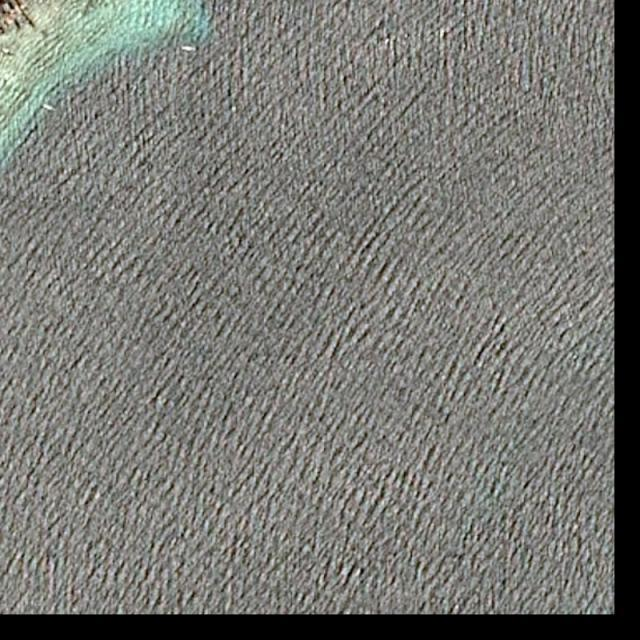ship: (42, 103, 56, 114), (182, 47, 196, 52)
